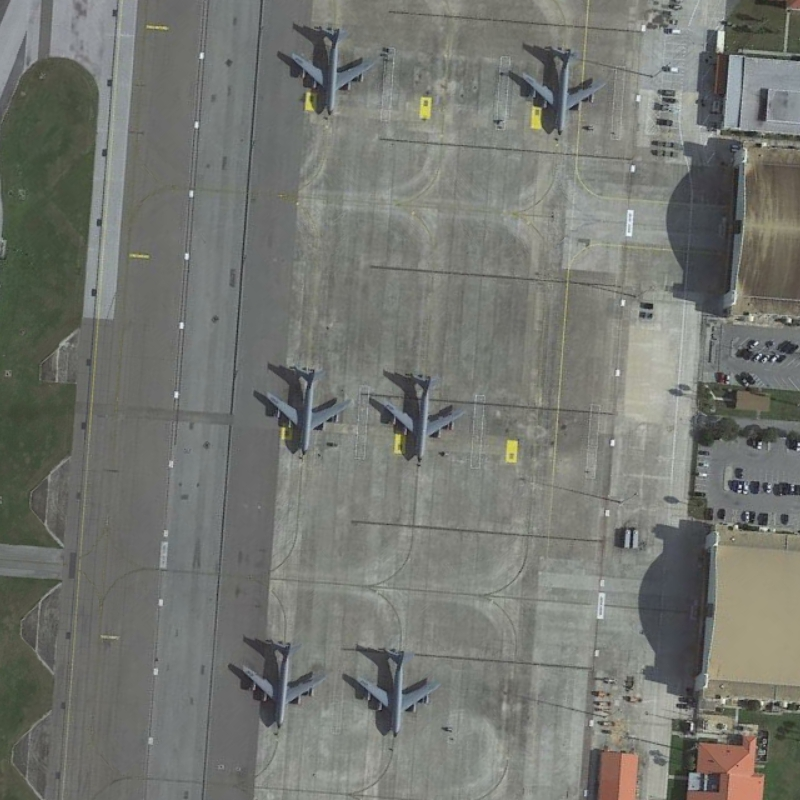A14: (518, 43, 612, 137), (263, 364, 355, 459), (238, 637, 329, 732), (353, 647, 443, 741), (380, 371, 468, 465), (288, 25, 374, 119)
